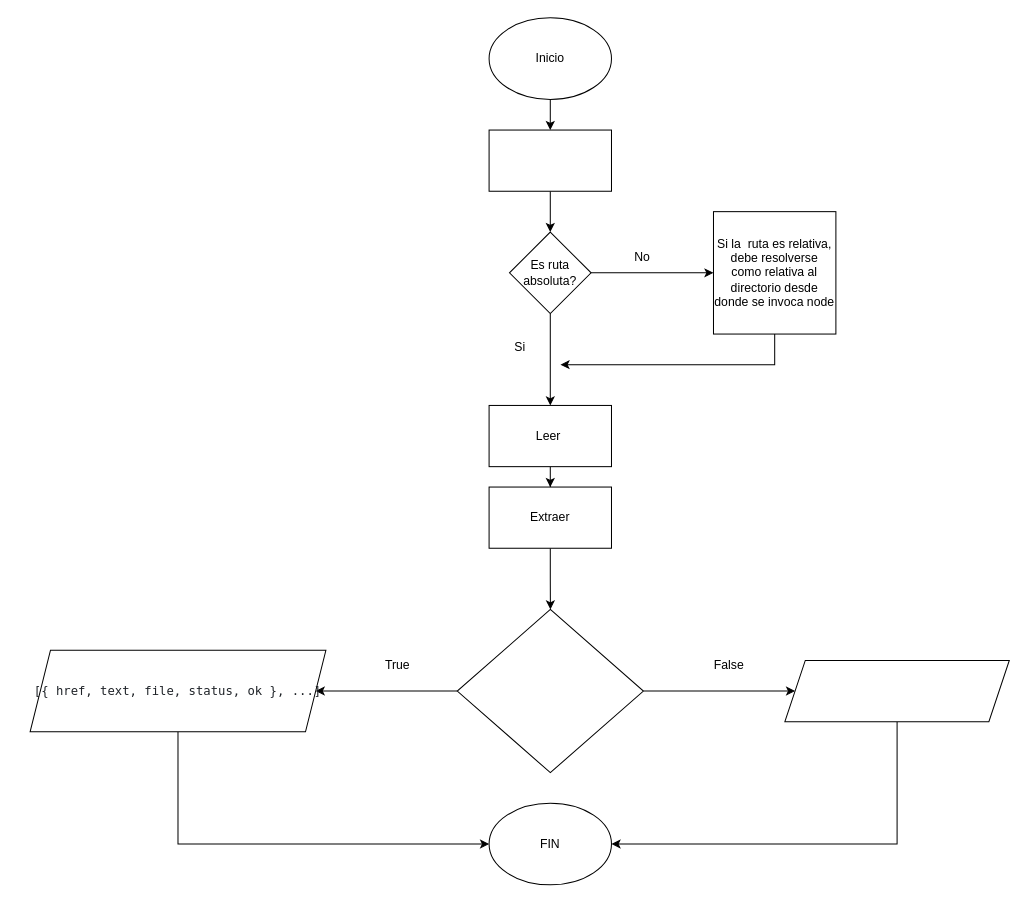
Some shapes in this 1030 by 903 pixel diagram are drawn without their labels. The shapes that lost their labels are listed below. From the top down, each one's centre as x and y in pixels, then its label:
point 549,160: Busqueda de documento (path)
point 549,690: validate : Booleano que determina si se desea validar los links encontrados
point 896,690: [{ href, text, file }, ...]
